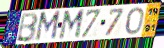7: (82, 8, 104, 39), (104, 7, 125, 38)
B: (15, 12, 40, 43)
M: (58, 8, 86, 42), (34, 10, 62, 43)
O: (125, 7, 145, 36)
